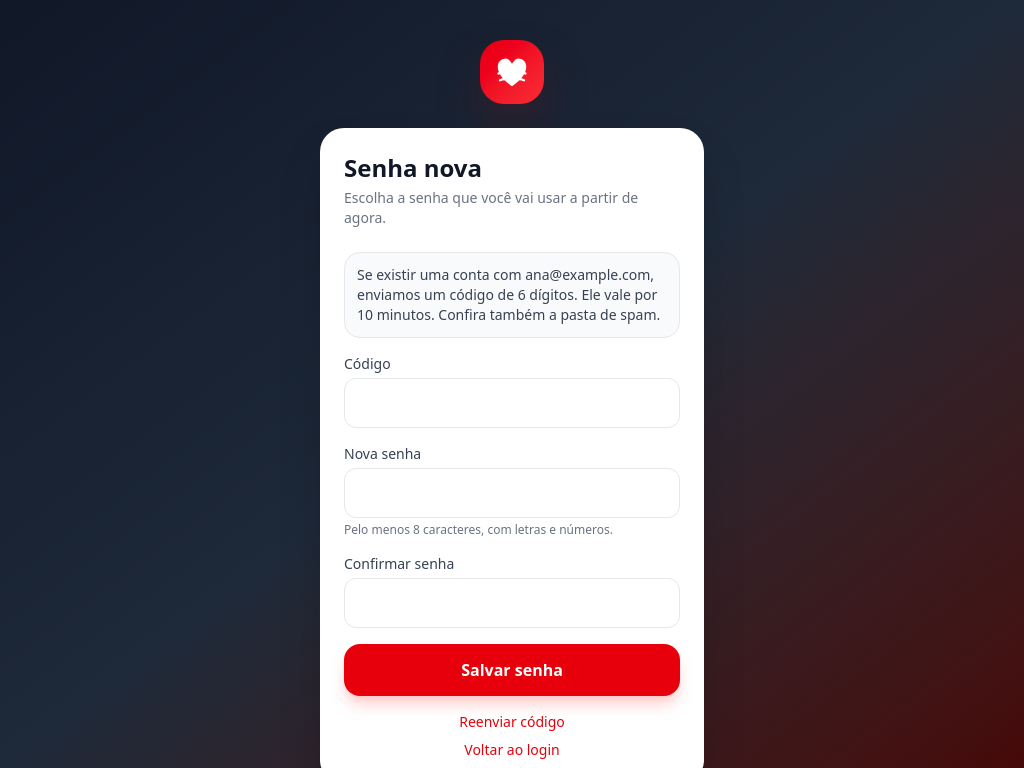
Test: ResetPasswordPage › código errado ou vencido: avisa e não grava a senha
Type "654321" into the field labelled "Código".
click(512, 403); type("654321")  # box [344,378,680,428]
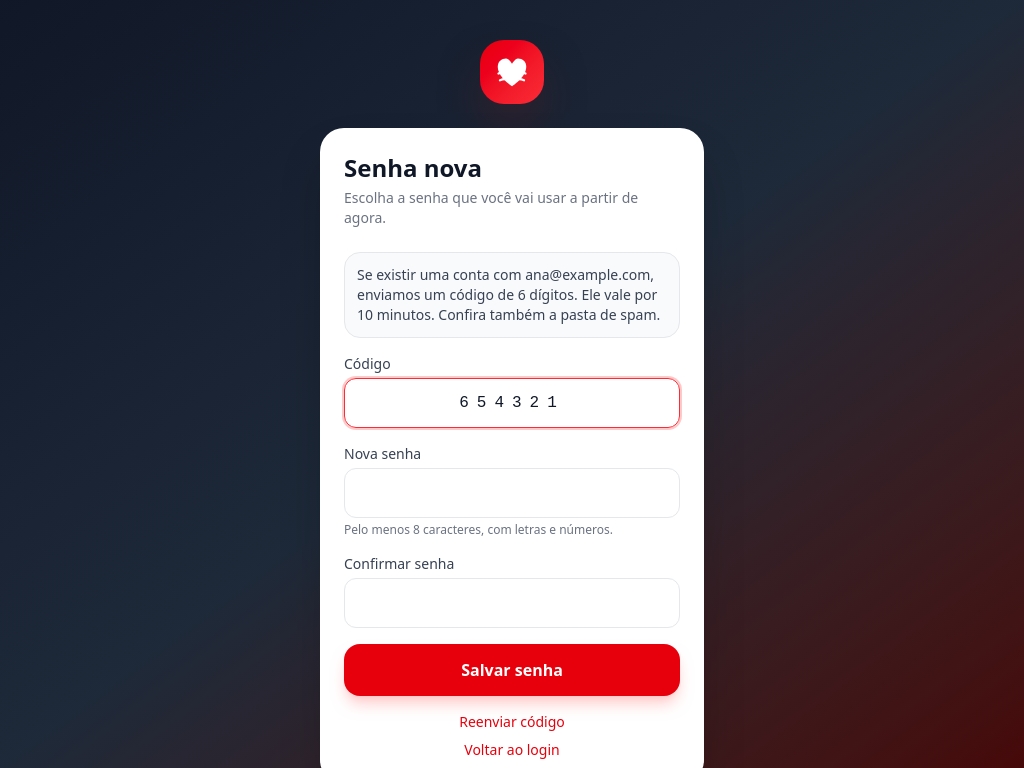
Type "frevo2026" into the password field labelled "Nova senha".
click(512, 493); type("frevo2026")  # box [344,468,680,518]
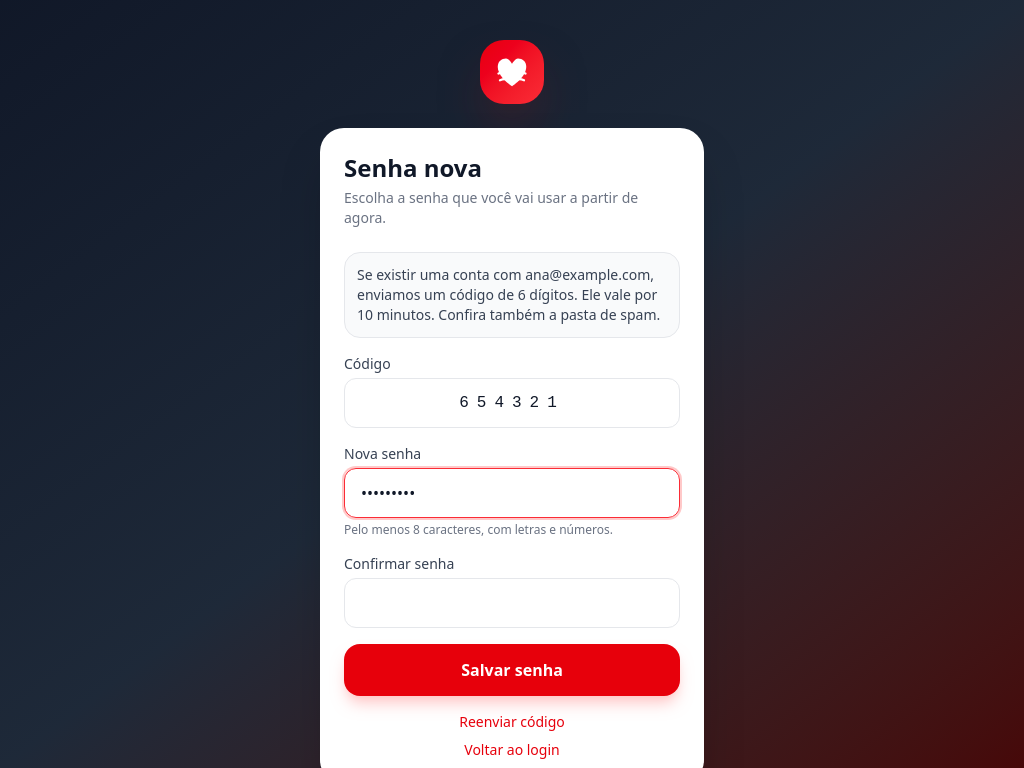
Type "frevo2026" into the password field labelled "Confirmar senha".
click(512, 603); type("frevo2026")  # box [344,578,680,628]
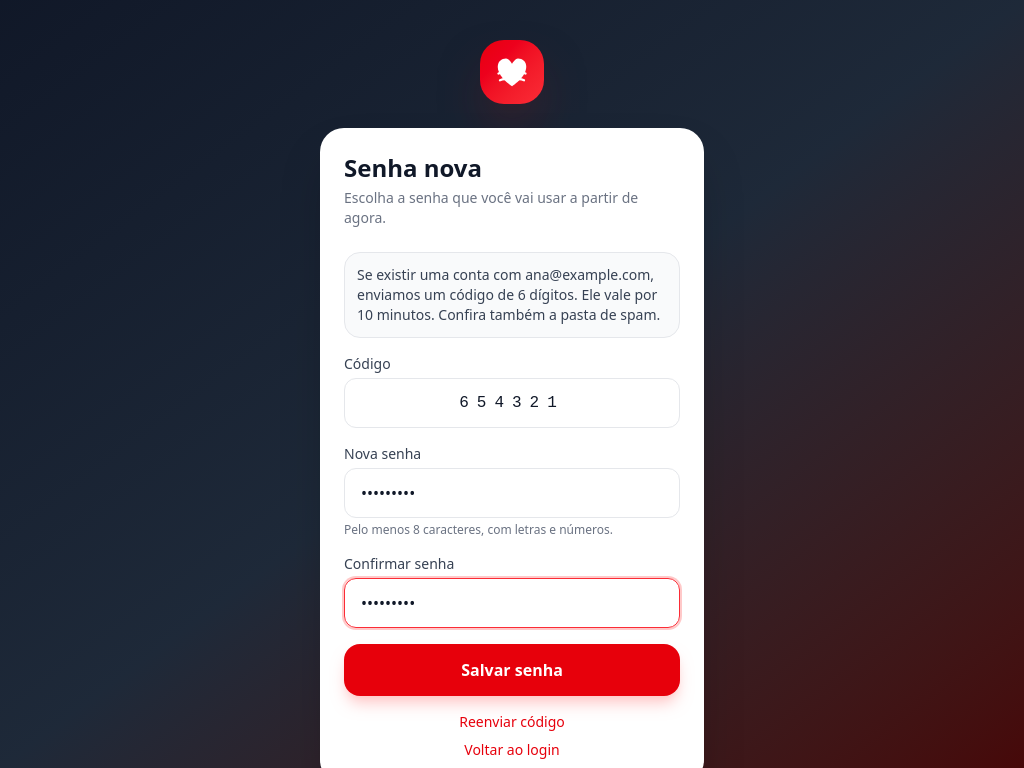
Click the button "Salvar senha".
click(512, 670)  # box [344,644,680,696]
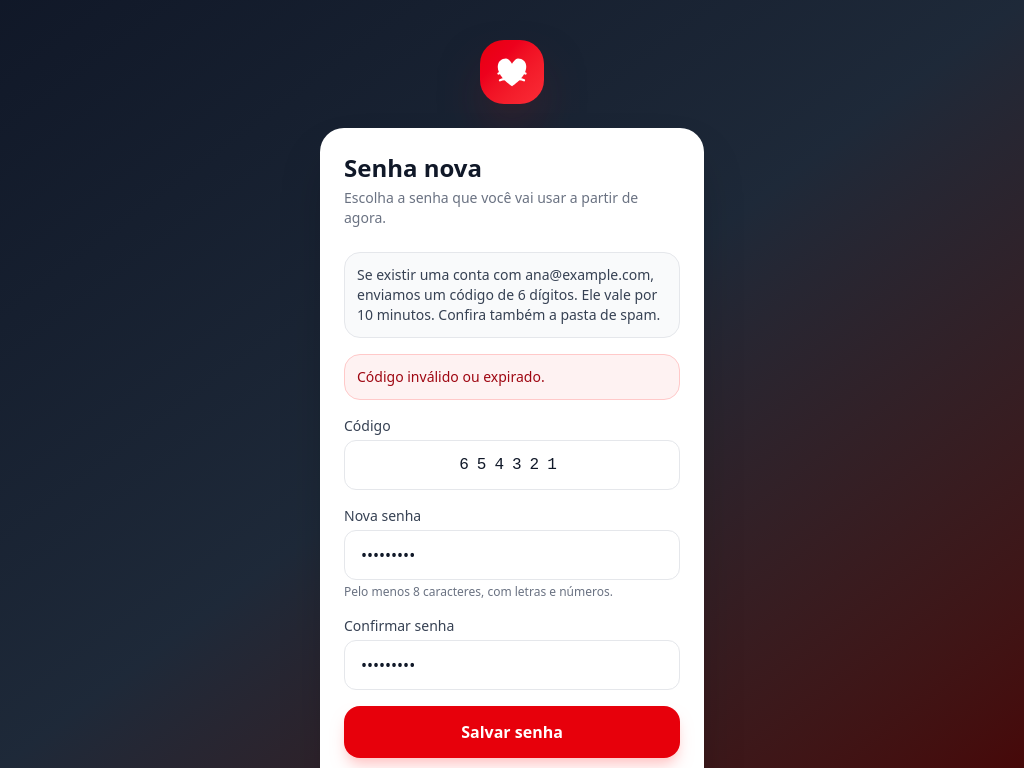
expect the text "Código inválido ou expirado." is shown: met, box [344,354,680,400]
